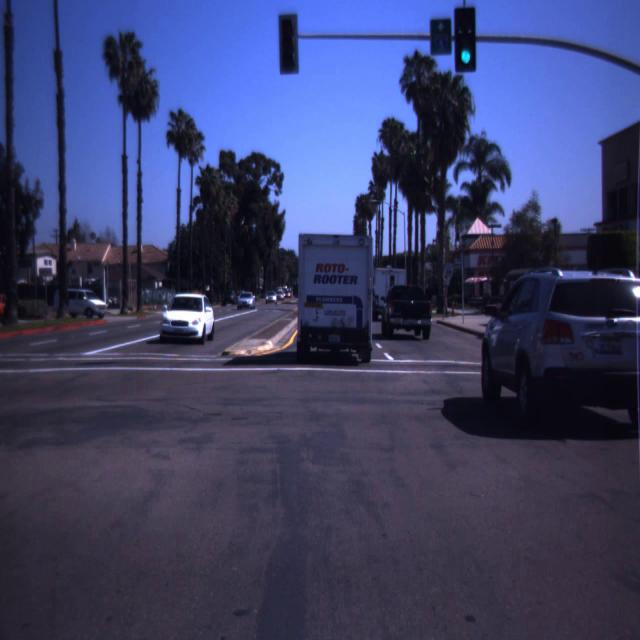arka_lamba: (279, 14, 299, 74)
yesil: (454, 8, 476, 72)
